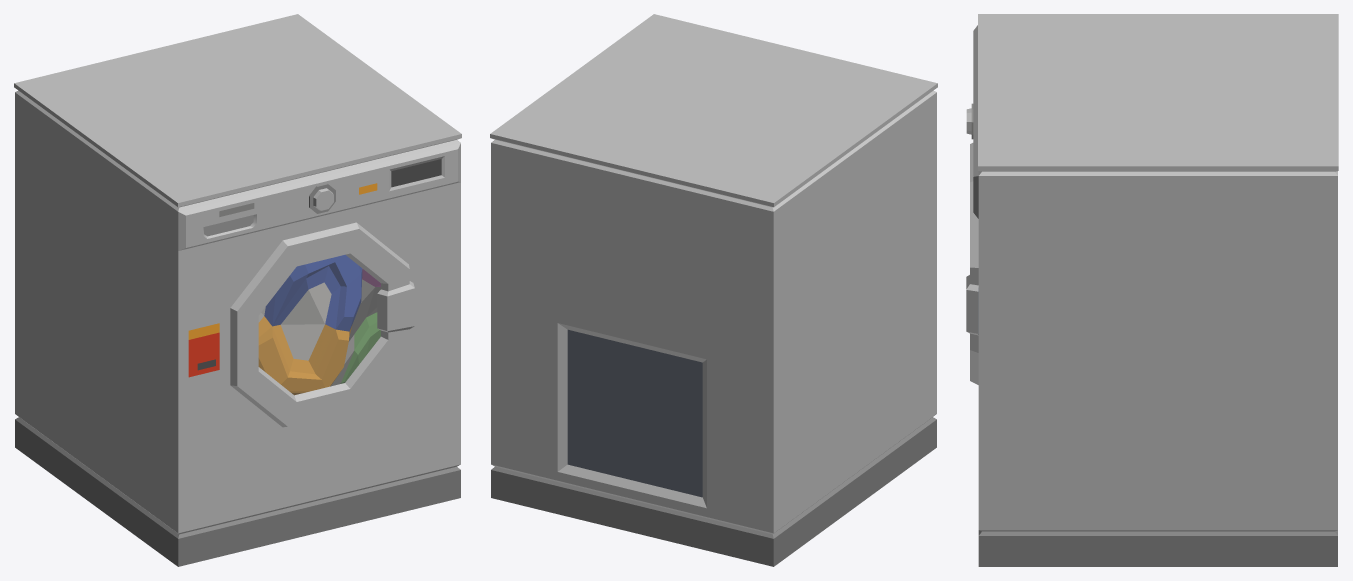
File: SM_Prop_Laundry_WasherFront_01.fbx
3 renders of one model, left to right at view 1: azimuth 30°, elevation 25°; view 2: azimuth 150°, elevation 25°; view 3: azimuth 270°, elevation 25°, orthographic. The views are drawn at different scales.
Visible parts, largest first — view 1: SM_Prop_Laundry_WasherFront_01; view 2: SM_Prop_Laundry_WasherFront_01; view 3: SM_Prop_Laundry_WasherFront_01.
Boxes of the visible parts, x1=… form: SM_Prop_Laundry_WasherFront_01: x1=14, y1=14, x2=461, y2=566; SM_Prop_Laundry_WasherFront_01: x1=490, y1=14, x2=937, y2=566; SM_Prop_Laundry_WasherFront_01: x1=966, y1=14, x2=1338, y2=566.
Bounding box in the file's own units: 100 × 123 × 104.
